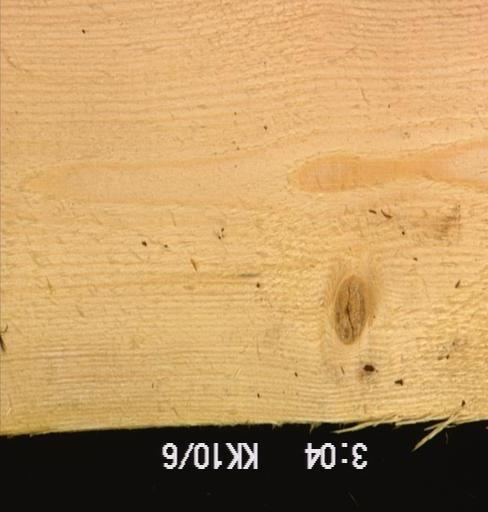sound_knot: (333, 273, 370, 345)
